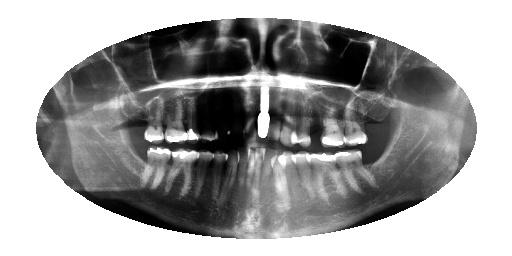Fillings: (309, 153, 347, 202), (337, 149, 377, 193), (166, 148, 198, 196), (141, 146, 171, 189), (321, 109, 345, 149), (165, 103, 187, 144), (144, 105, 165, 144)
Implant: (256, 85, 271, 139)
